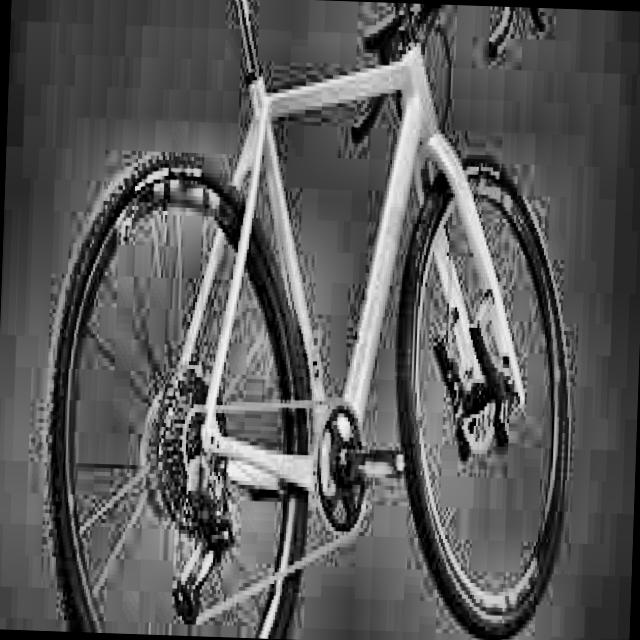bicycle: (26, 0, 585, 640)
